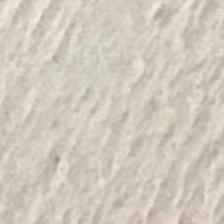Non_Crack: (8, 36, 204, 196)
